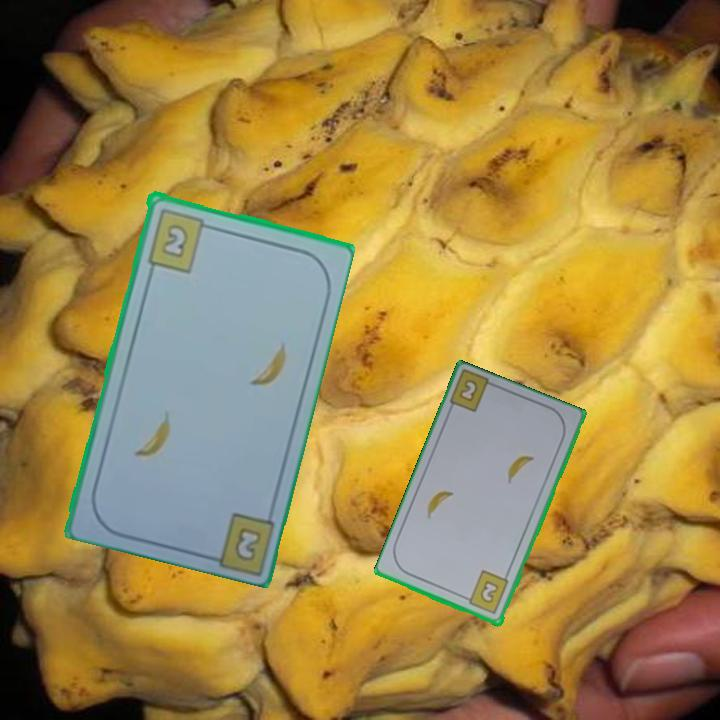2b: (143, 205, 216, 275), (460, 567, 512, 617), (230, 523, 264, 564), (458, 378, 479, 402)
